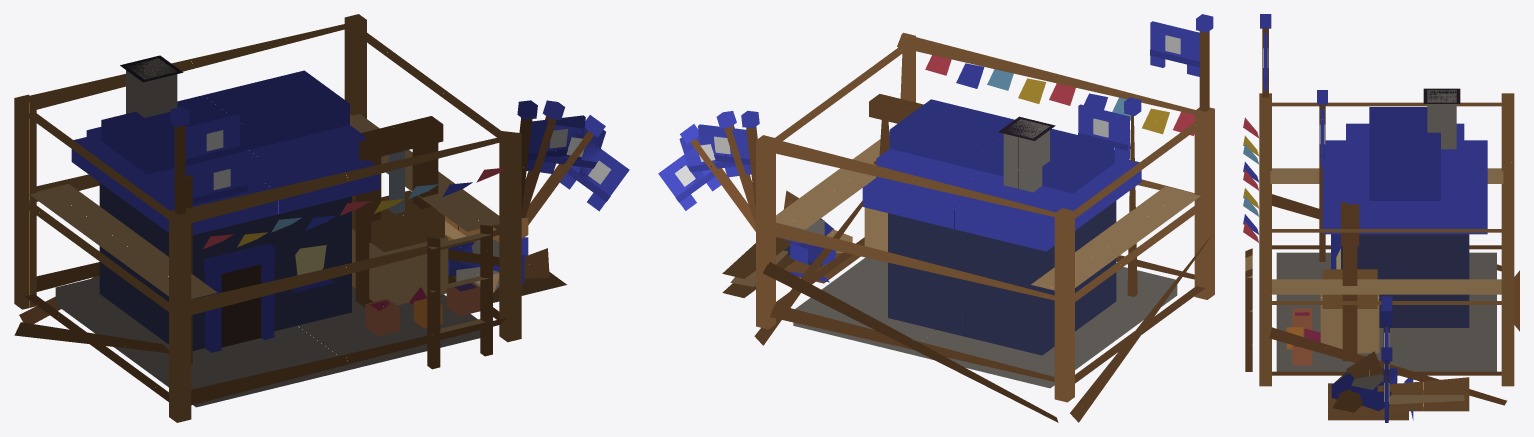
File: bat-research_lod1.glb
3 views of the same model, side by side, from view 1: azimuth 30°, elevation 25°; view 2: azimuth 150°, elevation 25°; view 3: azimuth 270°, elevation 25° (orthographic). The views are drawn at different scales.
Parts seen in each view (by area): view 1: scaffold-mesh, built-mesh, dismantle-75-mesh, dismantle-50-mesh, scaffold-banner, dismantle-25-banner, banner, dismantle-25-mesh, dismantle-75-banner, dismantle-50-banner, scaffold-flag-pole, dismantle-25-flag-pole (+2 smaller); view 2: scaffold-mesh, dismantle-75-mesh, built-mesh, dismantle-25-mesh, scaffold-banner, banner, dismantle-25-banner, dismantle-75-banner, dismantle-25-flag-pole, scaffold-flag-pole, flag-pole, dismantle-50-banner (+3 smaller); view 3: scaffold-mesh, built-mesh, dismantle-75-mesh, dismantle-25-mesh, dismantle-50-mesh, flag-pole, scaffold-flag-pole, banner, scaffold-banner.
Boxes of the visible parts, x1=… form: scaffold-mesh: x1=14, y1=14, x2=521, y2=422; built-mesh: x1=71, y1=55, x2=480, y2=407; dismantle-75-mesh: x1=56, y1=137, x2=528, y2=388; dismantle-50-mesh: x1=192, y1=211, x2=548, y2=350; scaffold-banner: x1=185, y1=114, x2=240, y2=175; dismantle-25-banner: x1=560, y1=142, x2=629, y2=211; banner: x1=192, y1=153, x2=247, y2=206; dismantle-25-mesh: x1=413, y1=218, x2=566, y2=324; dismantle-75-banner: x1=526, y1=115, x2=585, y2=170; dismantle-50-banner: x1=540, y1=124, x2=605, y2=179; scaffold-flag-pole: x1=170, y1=106, x2=189, y2=214; dismantle-25-flag-pole: x1=525, y1=115, x2=605, y2=224; scaffold-mesh: x1=722, y1=32, x2=1214, y2=422; dismantle-75-mesh: x1=784, y1=120, x2=1175, y2=372; built-mesh: x1=793, y1=94, x2=1141, y2=388; dismantle-25-mesh: x1=783, y1=190, x2=1042, y2=355; scaffold-banner: x1=1150, y1=21, x2=1199, y2=76; banner: x1=1078, y1=104, x2=1130, y2=159; dismantle-25-banner: x1=658, y1=147, x2=720, y2=210; dismantle-75-banner: x1=698, y1=124, x2=751, y2=174; dismantle-25-flag-pole: x1=680, y1=124, x2=755, y2=231; scaffold-flag-pole: x1=1196, y1=14, x2=1213, y2=111; flag-pole: x1=1124, y1=97, x2=1141, y2=296; dismantle-50-banner: x1=679, y1=134, x2=739, y2=182; scaffold-mesh: x1=1243, y1=93, x2=1519, y2=411; built-mesh: x1=1276, y1=88, x2=1496, y2=371; dismantle-75-mesh: x1=1276, y1=140, x2=1496, y2=410; dismantle-25-mesh: x1=1328, y1=351, x2=1408, y2=420; dismantle-50-mesh: x1=1320, y1=234, x2=1469, y2=420; flag-pole: x1=1317, y1=90, x2=1327, y2=261; scaffold-flag-pole: x1=1260, y1=14, x2=1271, y2=97; banner: x1=1319, y1=109, x2=1325, y2=166; scaffold-banner: x1=1263, y1=33, x2=1268, y2=90.
Bounding box in the file's own units: 2.66 × 1.57 × 1.51.
